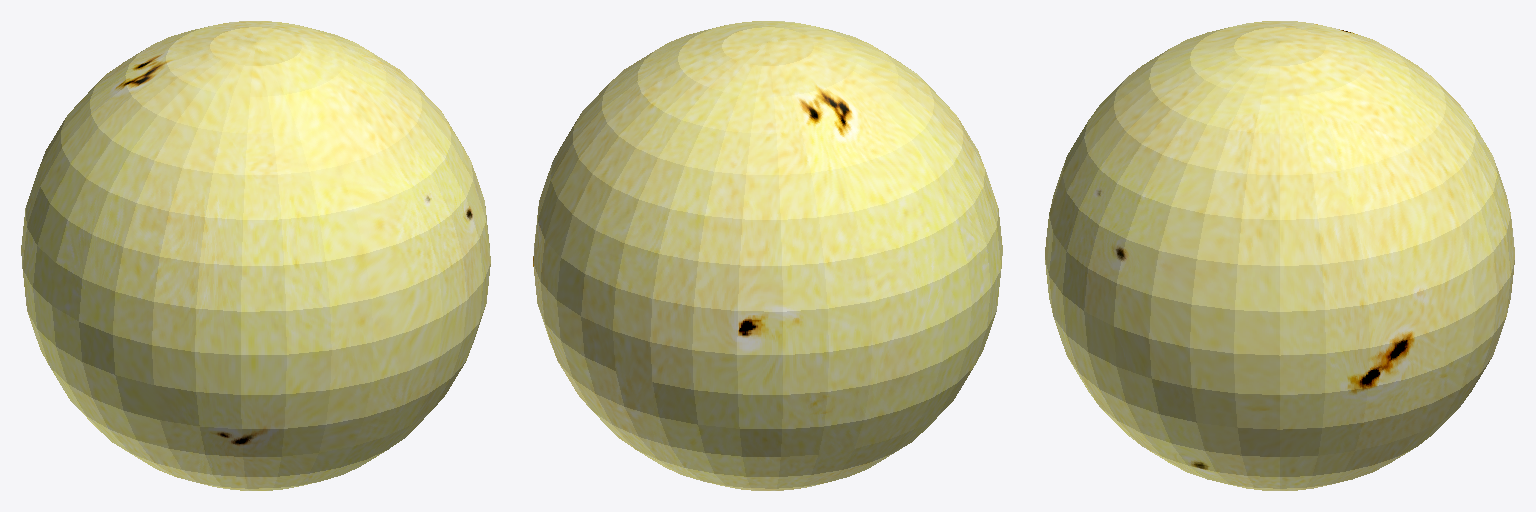
3 renders of one model, left to right at view 1: azimuth 30°, elevation 25°; view 2: azimuth 150°, elevation 25°; view 3: azimuth 270°, elevation 25°, orthographic.
Visible parts, largest first — view 1: Sphere001; view 2: Sphere001; view 3: Sphere001.
Boxes of the visible parts, box(x1,y1,x2,y2) form: Sphere001: box(21, 21, 490, 490); Sphere001: box(533, 21, 1002, 490); Sphere001: box(1045, 21, 1514, 490).
Size of the model in its own units: 62.99 by 62.99 by 62.99.
Materials: 1 (1 with a texture image).